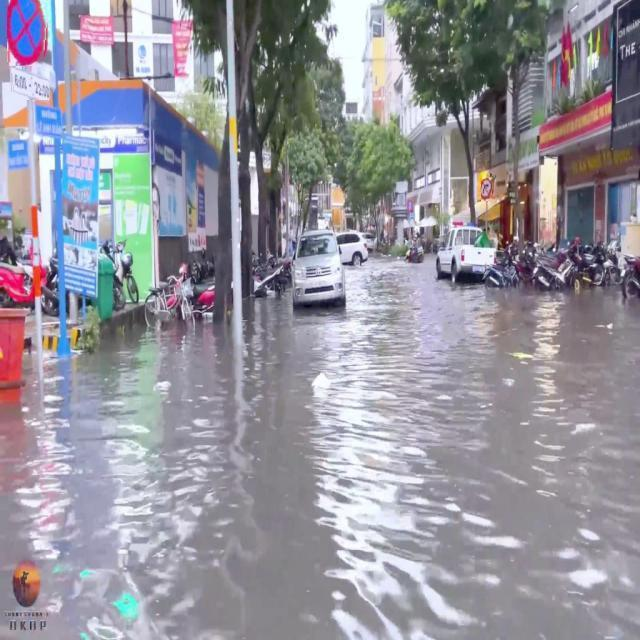123b-cam-re-phai: (480, 178, 492, 198)
